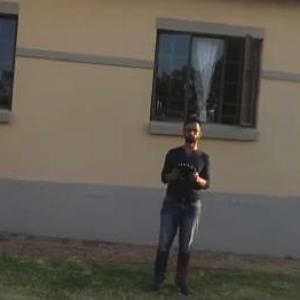follow: (145, 112, 212, 299)
